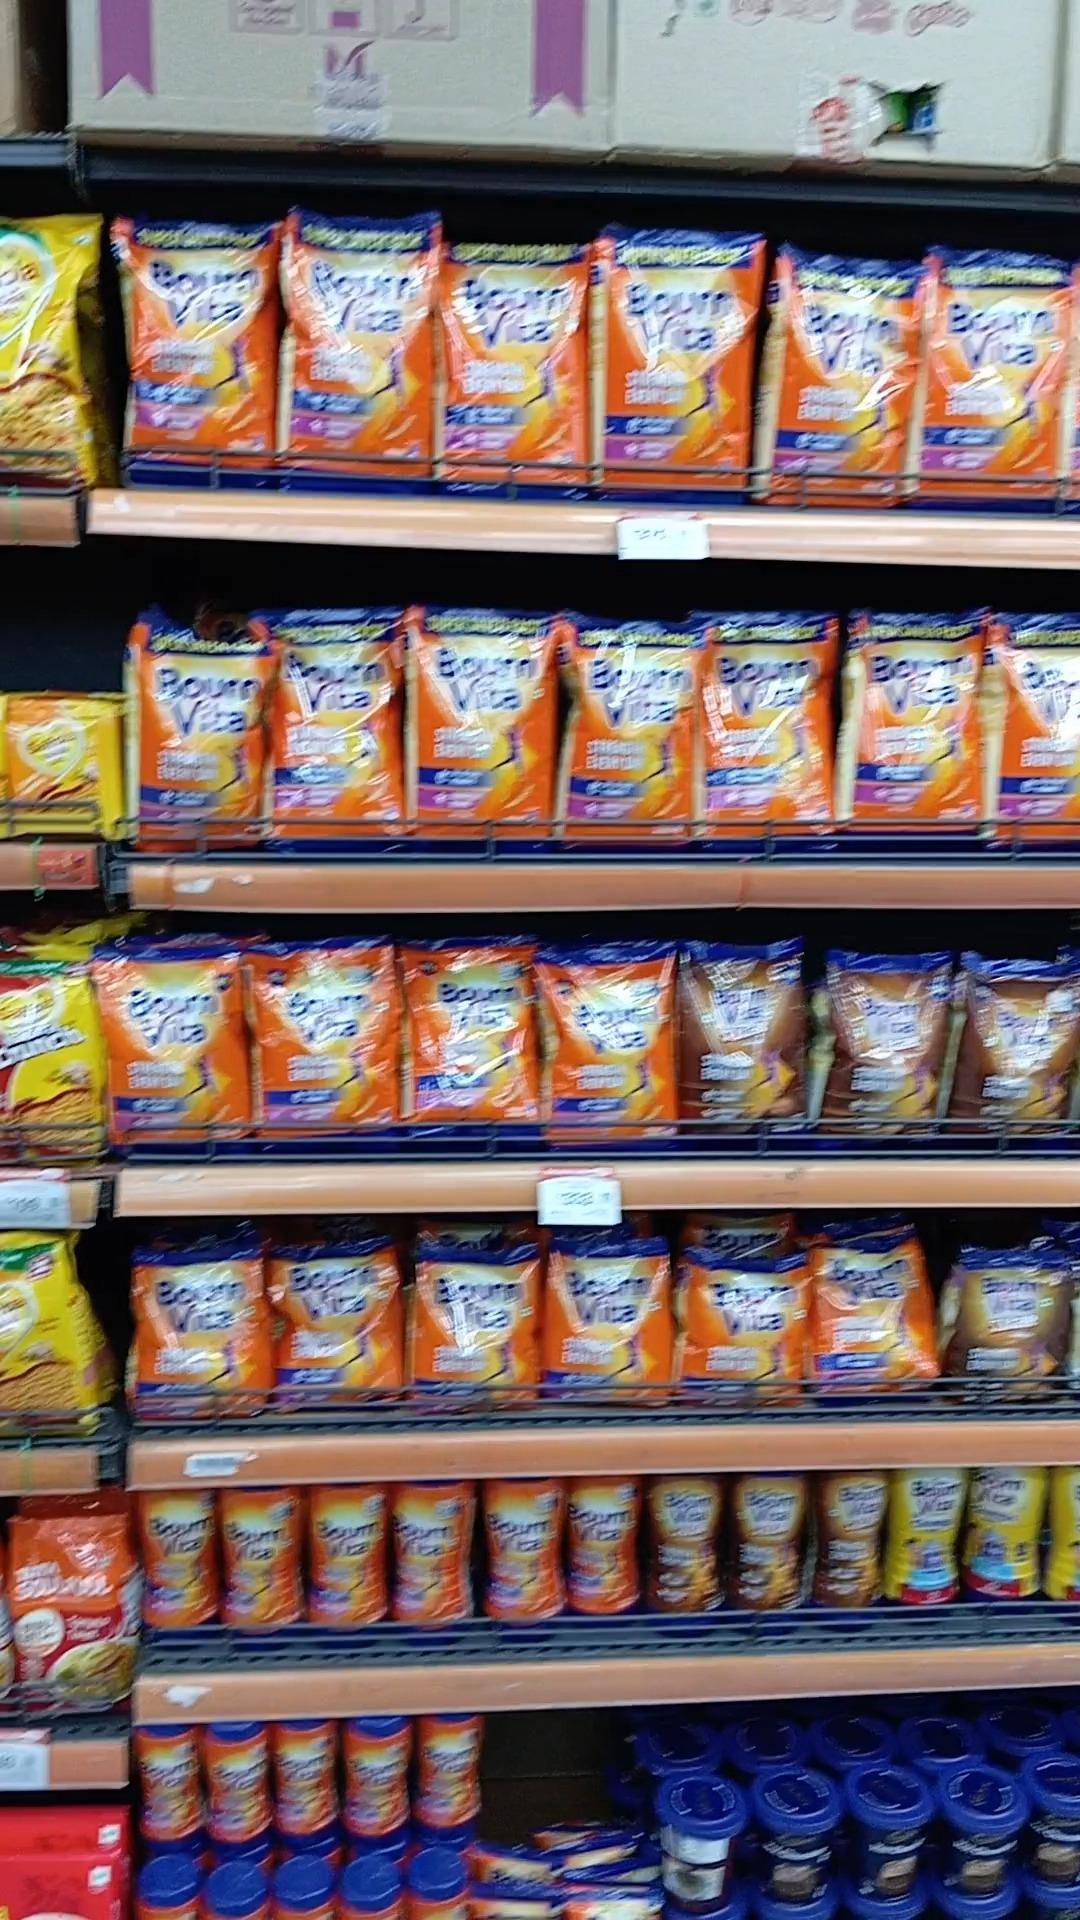BOURN_VITA_1_KG_POUCH: (105, 207, 272, 488), (597, 224, 756, 516), (280, 200, 435, 496), (440, 239, 599, 509), (939, 243, 1080, 510), (414, 605, 555, 866), (783, 240, 910, 508), (266, 608, 402, 857), (852, 601, 980, 857), (700, 608, 835, 851), (566, 620, 699, 858), (129, 633, 260, 852), (984, 611, 1080, 864)
BOURN_VITA_200_G_JAR: (270, 1724, 342, 1841), (128, 1725, 196, 1844), (418, 1710, 485, 1829), (343, 1721, 411, 1836), (203, 1722, 266, 1846)
BOURN_VITA_500_G_JAR: (389, 1480, 476, 1656), (223, 1478, 298, 1659), (140, 1487, 219, 1659), (305, 1485, 384, 1655), (483, 1477, 560, 1635), (567, 1470, 638, 1635)
BOURN_VITA_500_G_POUCH: (547, 1241, 678, 1422), (137, 1251, 262, 1431), (414, 1244, 535, 1418), (273, 1241, 394, 1414), (675, 1253, 810, 1407), (816, 1236, 927, 1407)
BOURN_VITA_750_G_POUCH: (241, 932, 394, 1158), (102, 939, 239, 1159), (402, 935, 530, 1153), (549, 947, 676, 1162)
BOURN_VITA_CHAMPS_500_G_JAR: (893, 1465, 964, 1623), (964, 1465, 1034, 1615)
BOURN_VITA_FIVE_STAR_MAGIC_500_G_JAR: (727, 1456, 814, 1622), (642, 1472, 728, 1639), (816, 1468, 884, 1625)
BOURN_VITA_FIVE_STAR_MAGIC_500_G_POUCH: (943, 1245, 1068, 1410)
BOURN_VITA_FIVE_STAR_MAGIC_750_G_POUCH: (827, 947, 956, 1166), (684, 943, 814, 1145), (968, 948, 1080, 1150)
